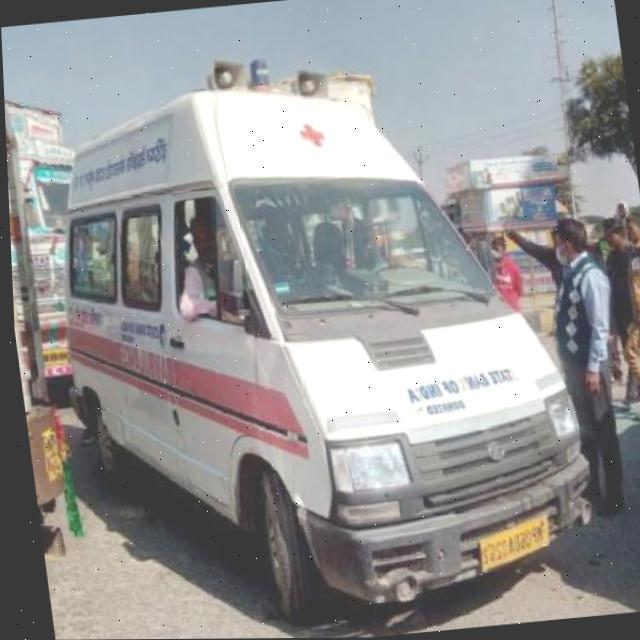emergency: (24, 28, 604, 640)
